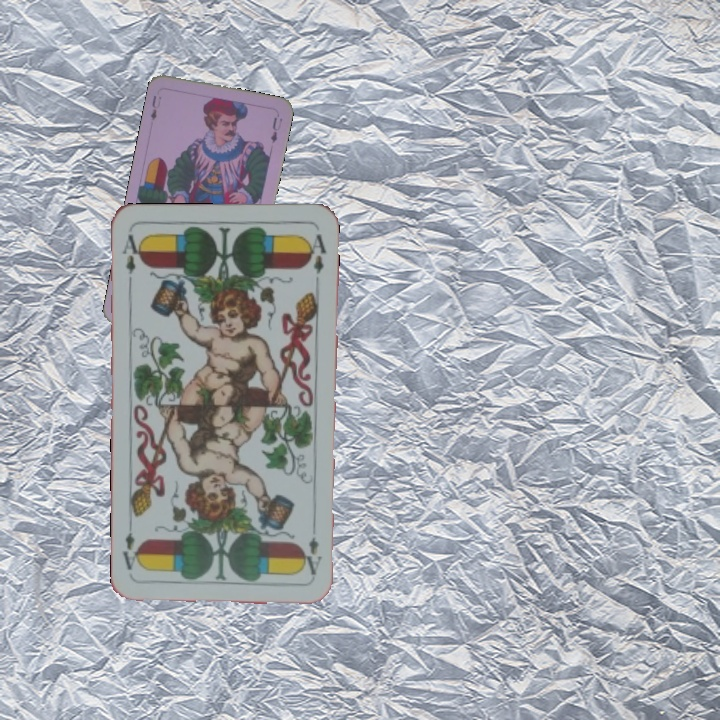EA: (118, 230, 145, 287), (303, 519, 324, 578)
EU: (146, 92, 163, 123)
